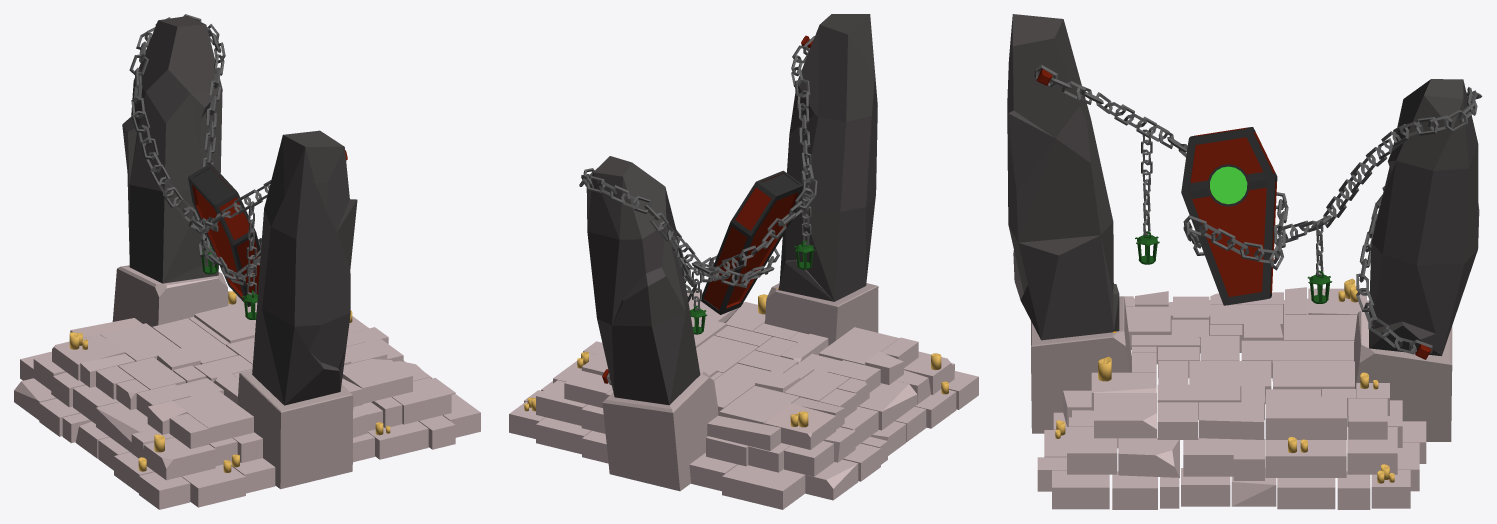
Rendered from altar.fbx.
3 views of the same model, side by side, from view 1: azimuth 30°, elevation 25°; view 2: azimuth 150°, elevation 25°; view 3: azimuth 270°, elevation 25° (orthographic). The views are drawn at different scales.
Parts seen in each view (by area): view 1: Circle.001, Circle.006, Circle.004, Circle.015; view 2: Circle.001, Circle.006, Circle.004; view 3: Circle.001, Circle.006, Circle.004, Circle.003, Circle.015.
Part boxes in pixels (left/top/right/bottom): Circle.001: left=14, top=16, right=480, bottom=509; Circle.006: left=129, top=14, right=271, bottom=285; Circle.004: left=69, top=291, right=390, bottom=472; Circle.015: left=246, top=201, right=256, bottom=295; Circle.001: left=509, top=14, right=978, bottom=509; Circle.006: left=579, top=36, right=817, bottom=385; Circle.004: left=524, top=294, right=948, bottom=427; Circle.001: left=1007, top=14, right=1479, bottom=509; Circle.006: left=1034, top=65, right=1482, bottom=354; Circle.004: left=1055, top=278, right=1394, bottom=483; Circle.003: left=1210, top=166, right=1247, bottom=204; Circle.015: left=1141, top=129, right=1152, bottom=235.
Size of the model in its own units: 1038 by 1059 by 1173.
